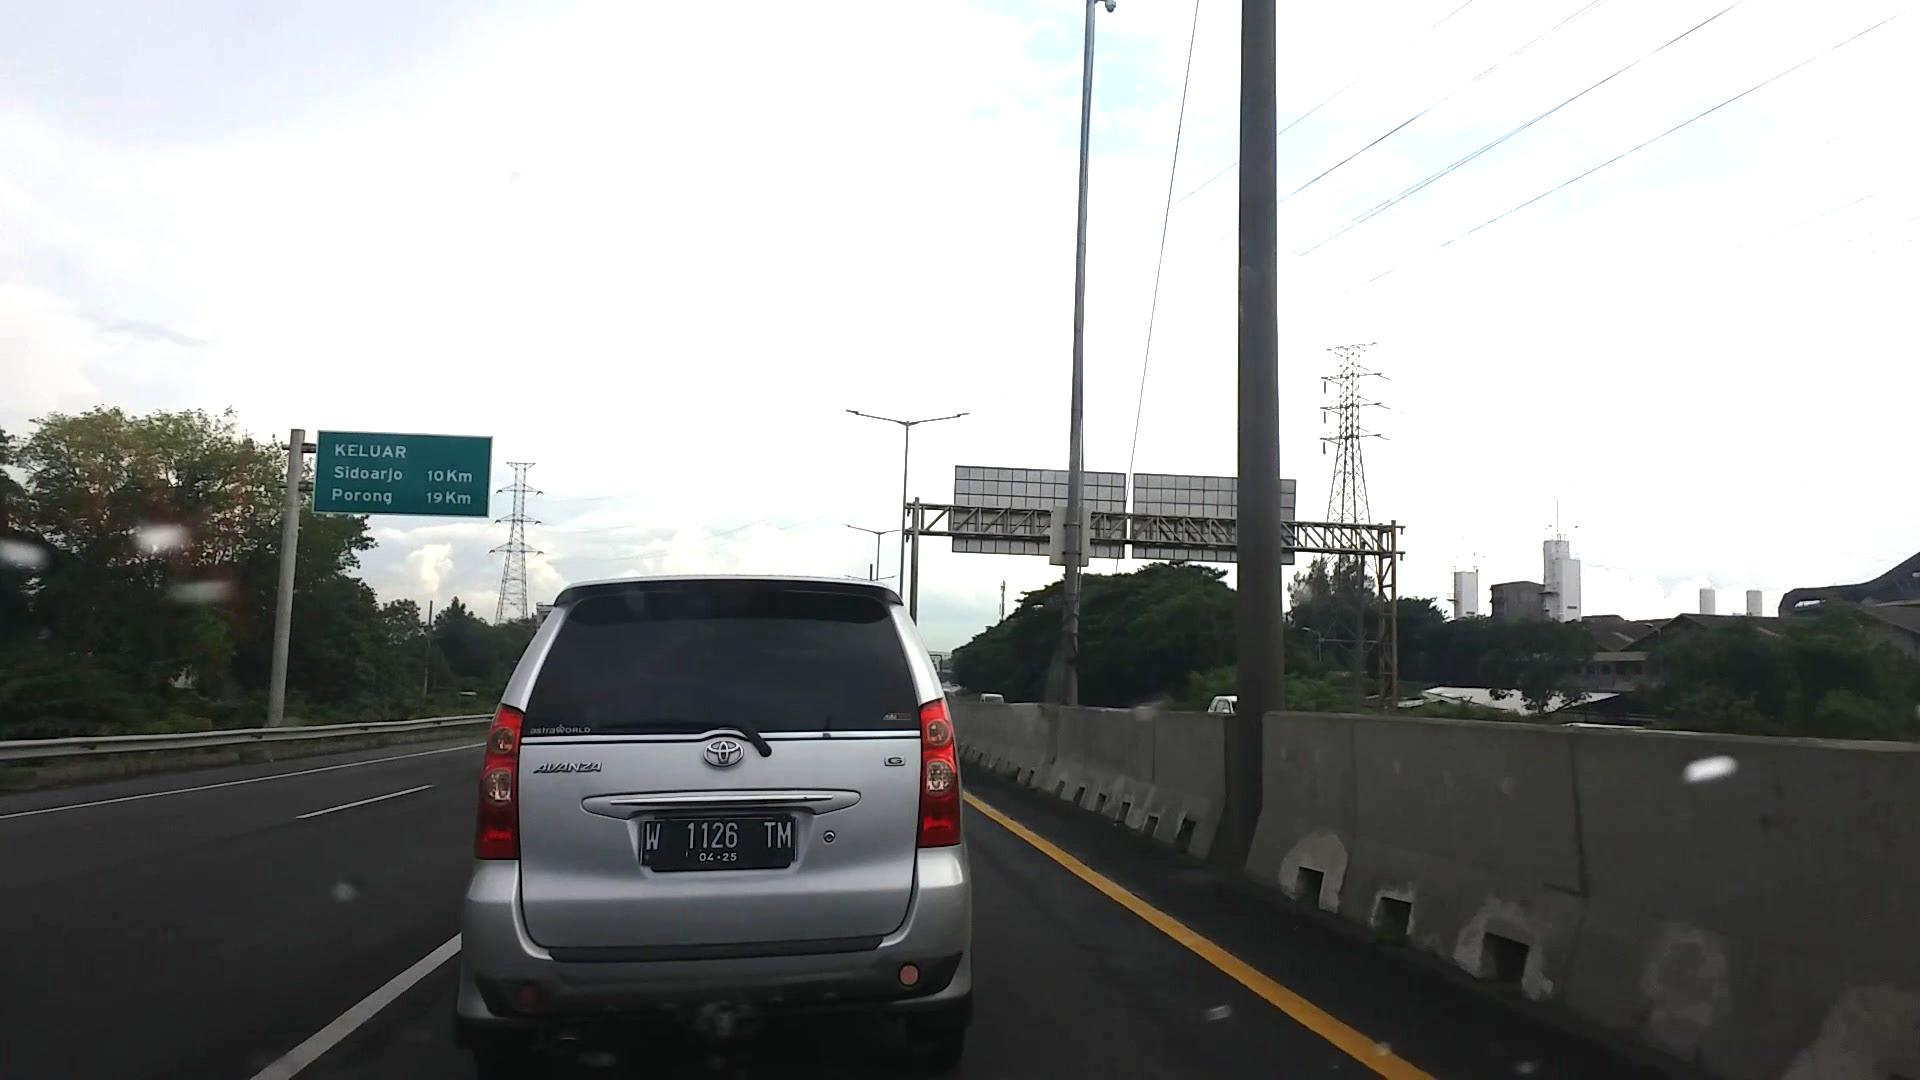plate_positive: (640, 820, 796, 862)
